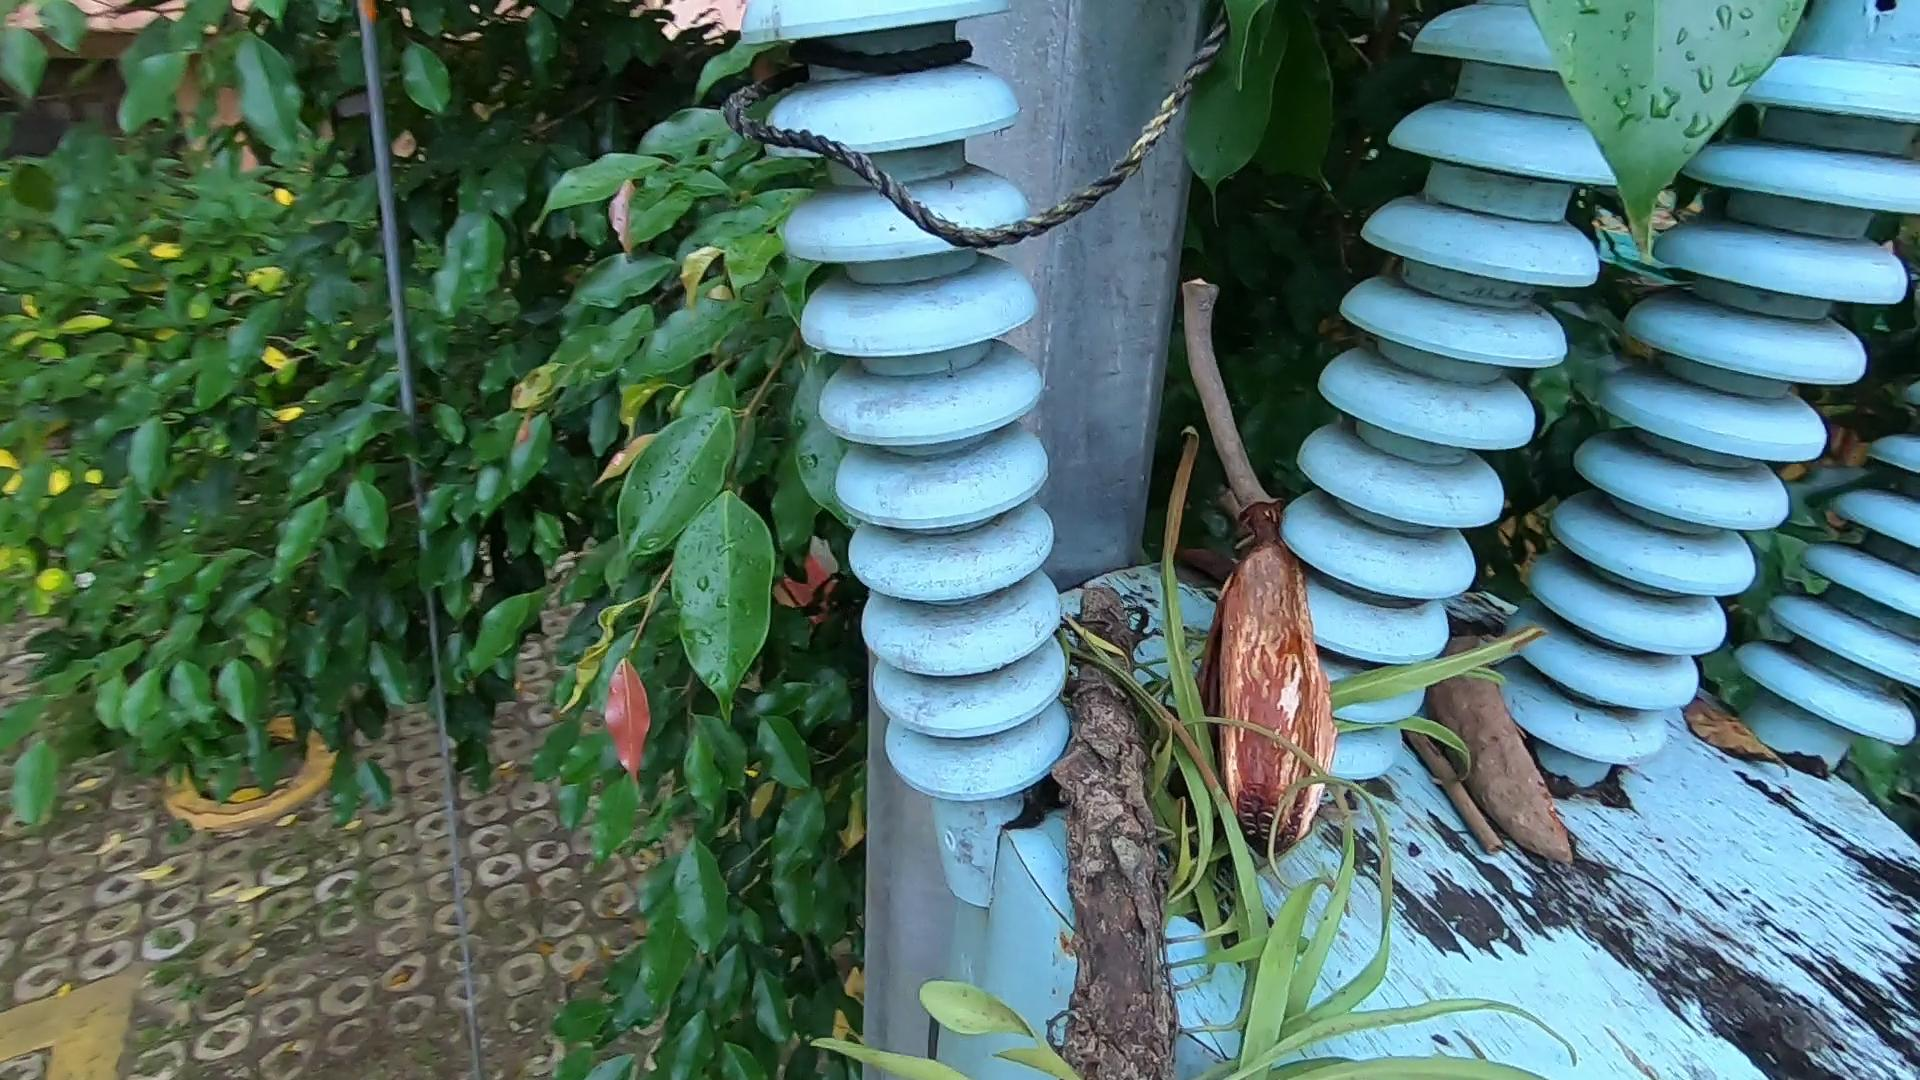branch with leaves: (910, 415, 1581, 1080)
leaf: (1687, 680, 1779, 774)
mahogany fruit: (1418, 601, 1578, 878), (1224, 498, 1342, 840)
tree branch: (1168, 273, 1304, 524), (1389, 707, 1513, 853)
